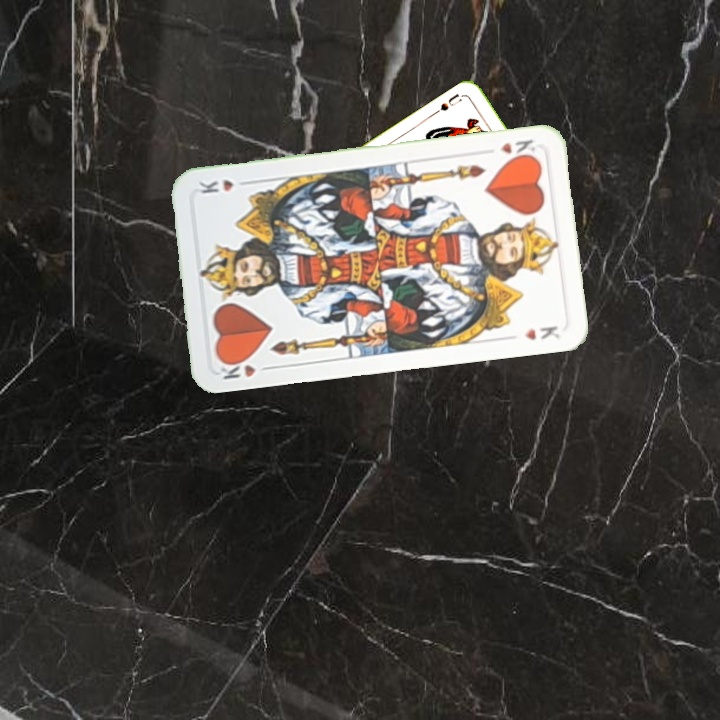HK: (216, 353, 275, 382), (496, 135, 541, 163)
SU: (430, 90, 467, 117)
